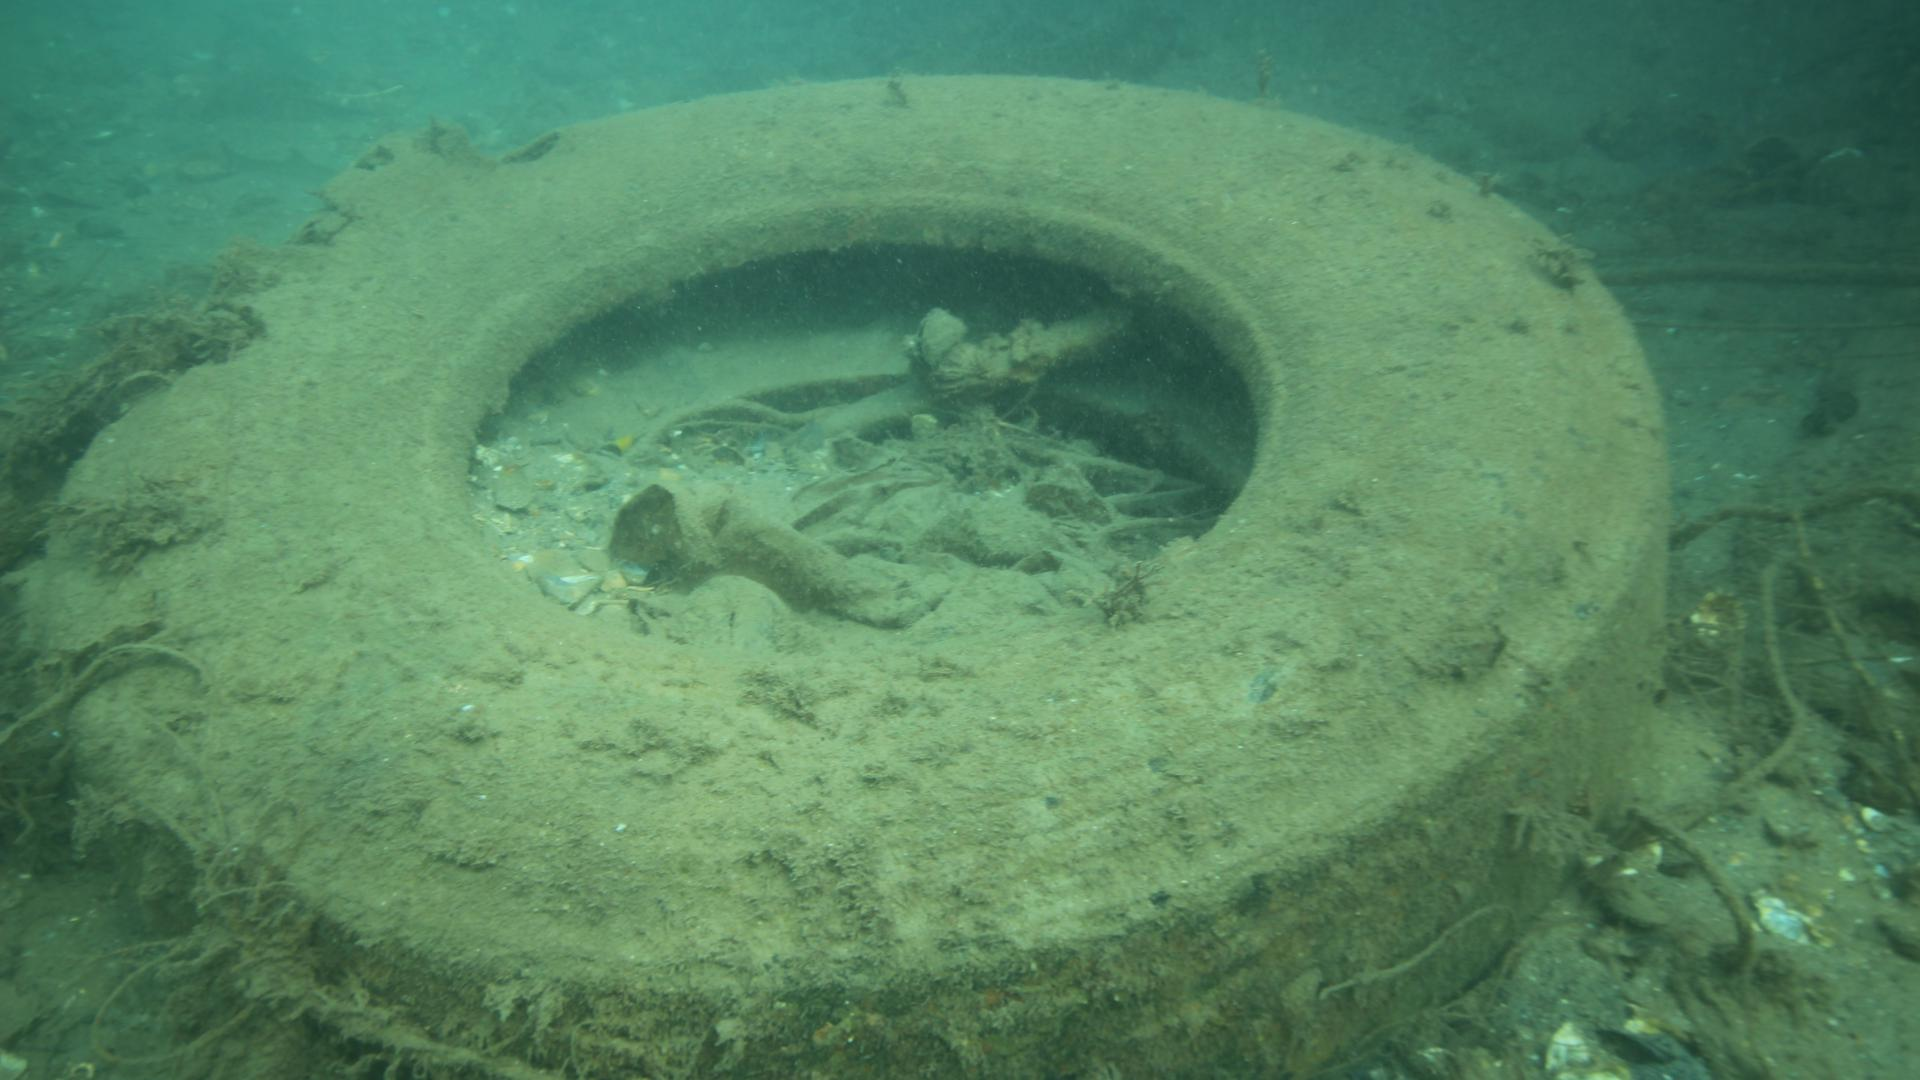tire: (37, 65, 1683, 1080)
